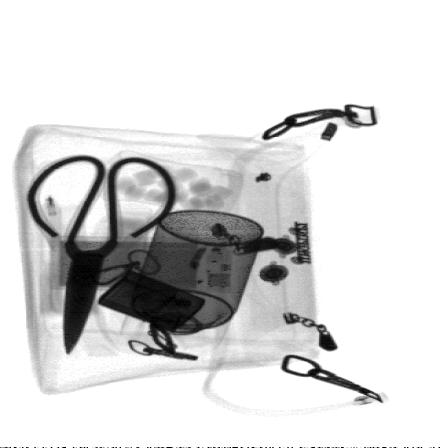Lighter: (94, 271, 208, 334)
Powerbank: (42, 232, 252, 316)
Scissors: (23, 153, 178, 357)
Sprayer: (115, 210, 268, 359)
